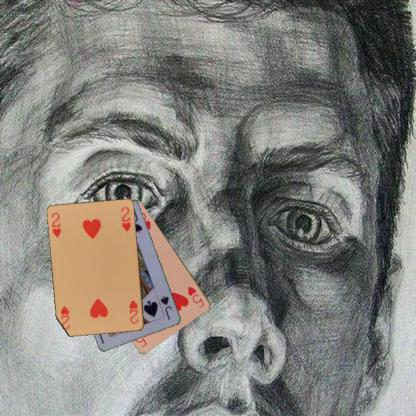2h: (49, 210, 63, 239), (127, 298, 139, 325)
5h: (185, 284, 207, 309)
Js: (158, 294, 173, 321)
